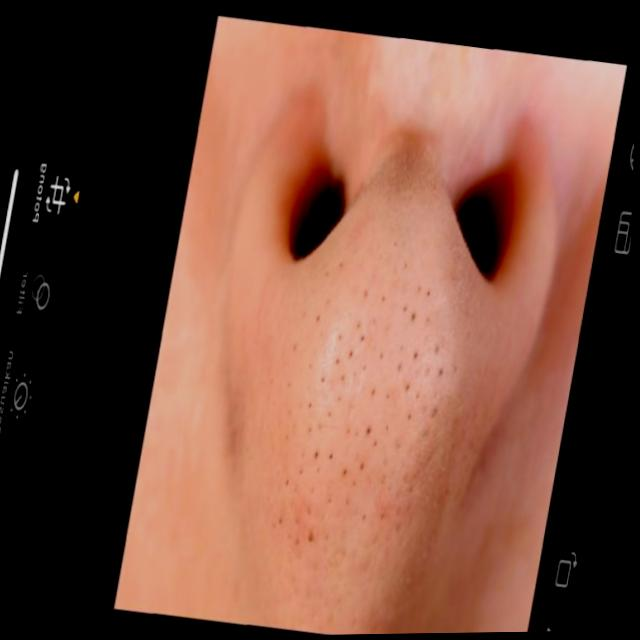blackhead: (255, 243, 456, 570)
